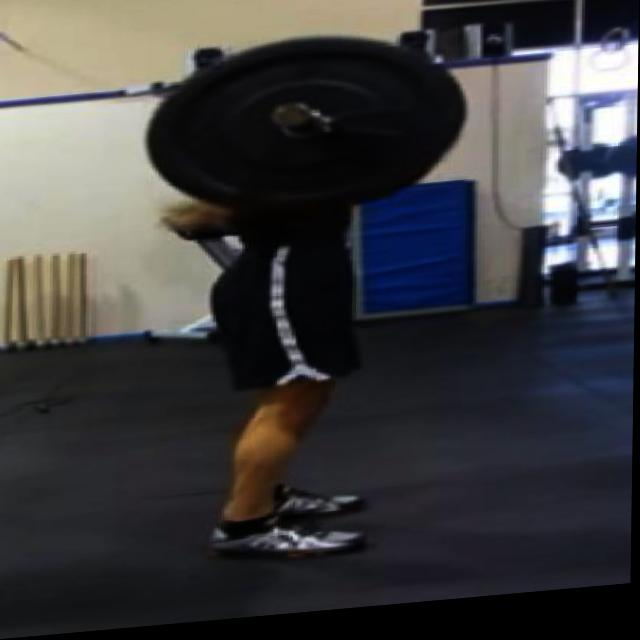barbell: (137, 26, 469, 234)
